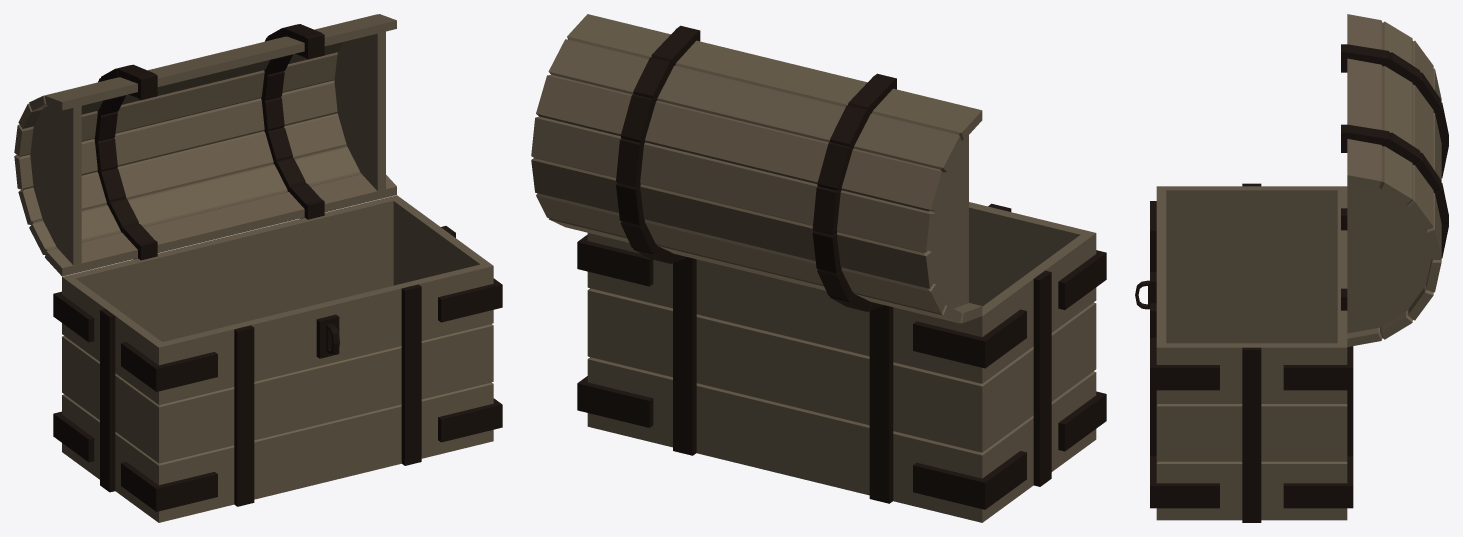
Rendered from chest.fbx.
3 views of the same model, side by side, from view 1: azimuth 30°, elevation 25°; view 2: azimuth 150°, elevation 25°; view 3: azimuth 270°, elevation 25° (orthographic). The views are drawn at different scales.
Visible parts, largest first — view 1: chest; view 2: chest; view 3: chest.
Boxes of the visible parts, <box> form: chest: <box>14,14,502,522</box>; chest: <box>531,14,1106,522</box>; chest: <box>1135,14,1448,522</box>.
Bounding box in the file's own units: 124 × 122 × 98.76.
